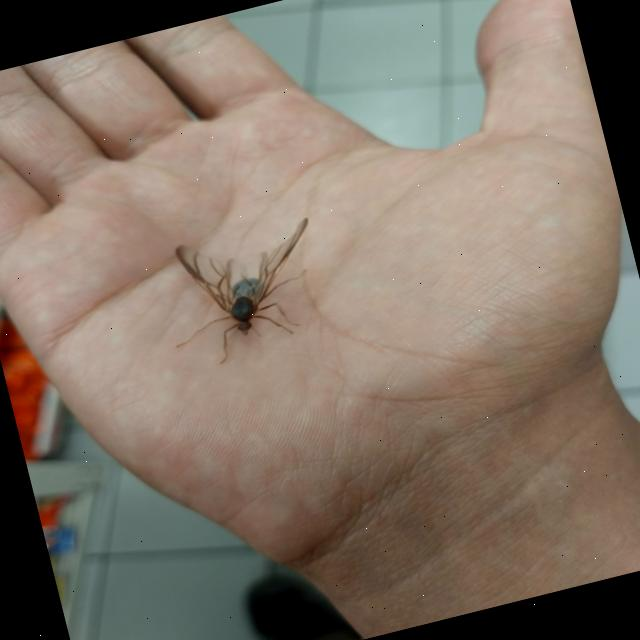Alive-Male-Alate: (147, 211, 340, 375)
